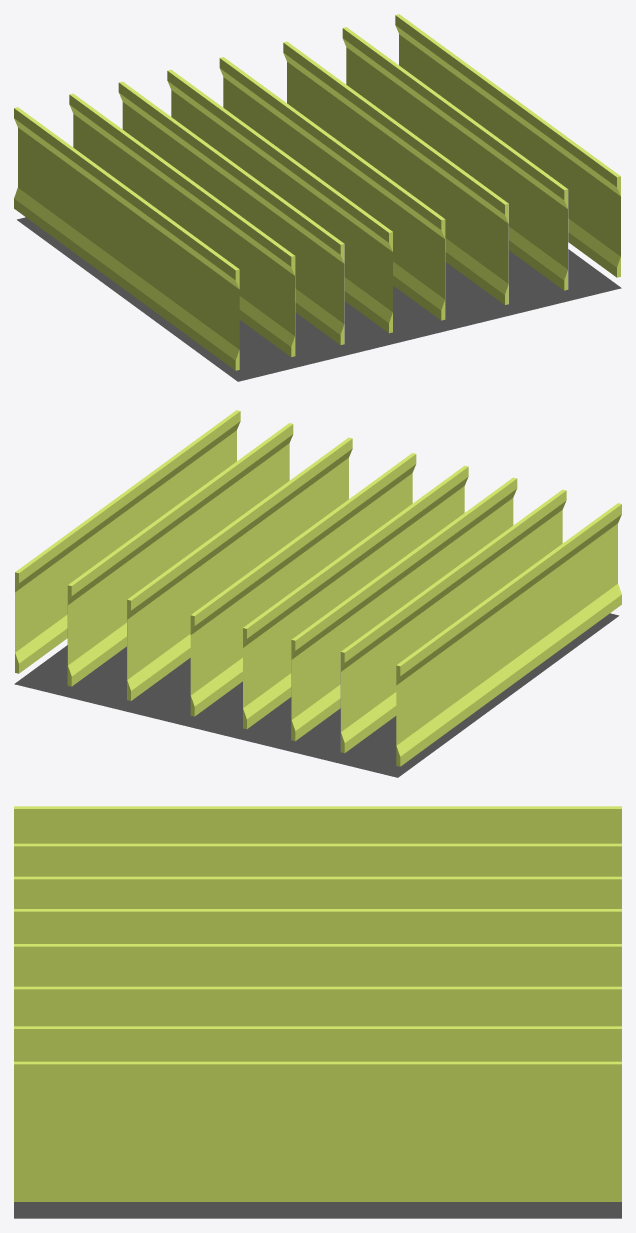
Rendered from Fall.dae.
3 renders of one model, top to bottom at view 1: azimuth 30°, elevation 25°; view 2: azimuth 150°, elevation 25°; view 3: azimuth 270°, elevation 25°, orthographic. The views are drawn at different scales.
Visible parts, largest first — view 1: node_3584d2a5_cb83_4061_92fe_2b8d226bf37d_mesh6, node_3584d2a5_cb83_4061_92fe_2b8d226bf37d_mesh7, node_3584d2a5_cb83_4061_92fe_2b8d226bf37d_mesh4, node_3584d2a5_cb83_4061_92fe_2b8d226bf37d_mesh5, node_3584d2a5_cb83_4061_92fe_2b8d226bf37d_mesh2, node_3584d2a5_cb83_4061_92fe_2b8d226bf37d_mesh3, node_3584d2a5_cb83_4061_92fe_2b8d226bf37d_mesh1, node_3584d2a5_cb83_4061_92fe_2b8d226bf37d_mesh8, node_3584d2a5_cb83_4061_92fe_2b8d226bf37d_mesh0; view 2: node_3584d2a5_cb83_4061_92fe_2b8d226bf37d_mesh6, node_3584d2a5_cb83_4061_92fe_2b8d226bf37d_mesh7, node_3584d2a5_cb83_4061_92fe_2b8d226bf37d_mesh4, node_3584d2a5_cb83_4061_92fe_2b8d226bf37d_mesh5, node_3584d2a5_cb83_4061_92fe_2b8d226bf37d_mesh2, node_3584d2a5_cb83_4061_92fe_2b8d226bf37d_mesh3, node_3584d2a5_cb83_4061_92fe_2b8d226bf37d_mesh1, node_3584d2a5_cb83_4061_92fe_2b8d226bf37d_mesh8, node_3584d2a5_cb83_4061_92fe_2b8d226bf37d_mesh0; view 3: node_3584d2a5_cb83_4061_92fe_2b8d226bf37d_mesh3, node_3584d2a5_cb83_4061_92fe_2b8d226bf37d_mesh1, node_3584d2a5_cb83_4061_92fe_2b8d226bf37d_mesh7, node_3584d2a5_cb83_4061_92fe_2b8d226bf37d_mesh6, node_3584d2a5_cb83_4061_92fe_2b8d226bf37d_mesh4, node_3584d2a5_cb83_4061_92fe_2b8d226bf37d_mesh0, node_3584d2a5_cb83_4061_92fe_2b8d226bf37d_mesh2, node_3584d2a5_cb83_4061_92fe_2b8d226bf37d_mesh8, node_3584d2a5_cb83_4061_92fe_2b8d226bf37d_mesh5.
Part boxes in pixels (<box>): node_3584d2a5_cb83_4061_92fe_2b8d226bf37d_mesh6: <box>14,107,239,370</box>; node_3584d2a5_cb83_4061_92fe_2b8d226bf37d_mesh7: <box>283,41,508,304</box>; node_3584d2a5_cb83_4061_92fe_2b8d226bf37d_mesh4: <box>342,27,568,290</box>; node_3584d2a5_cb83_4061_92fe_2b8d226bf37d_mesh5: <box>17,217,621,381</box>; node_3584d2a5_cb83_4061_92fe_2b8d226bf37d_mesh2: <box>69,93,295,357</box>; node_3584d2a5_cb83_4061_92fe_2b8d226bf37d_mesh3: <box>395,14,620,277</box>; node_3584d2a5_cb83_4061_92fe_2b8d226bf37d_mesh1: <box>219,57,445,320</box>; node_3584d2a5_cb83_4061_92fe_2b8d226bf37d_mesh8: <box>118,81,344,345</box>; node_3584d2a5_cb83_4061_92fe_2b8d226bf37d_mesh0: <box>167,69,392,333</box>; node_3584d2a5_cb83_4061_92fe_2b8d226bf37d_mesh6: <box>396,503,621,766</box>; node_3584d2a5_cb83_4061_92fe_2b8d226bf37d_mesh7: <box>127,437,352,700</box>; node_3584d2a5_cb83_4061_92fe_2b8d226bf37d_mesh4: <box>67,423,293,686</box>; node_3584d2a5_cb83_4061_92fe_2b8d226bf37d_mesh5: <box>14,613,618,777</box>; node_3584d2a5_cb83_4061_92fe_2b8d226bf37d_mesh2: <box>340,489,566,753</box>; node_3584d2a5_cb83_4061_92fe_2b8d226bf37d_mesh3: <box>15,410,240,673</box>; node_3584d2a5_cb83_4061_92fe_2b8d226bf37d_mesh1: <box>190,453,416,716</box>; node_3584d2a5_cb83_4061_92fe_2b8d226bf37d_mesh8: <box>291,477,517,741</box>; node_3584d2a5_cb83_4061_92fe_2b8d226bf37d_mesh0: <box>243,465,468,729</box>; node_3584d2a5_cb83_4061_92fe_2b8d226bf37d_mesh3: <box>14,1061,621,1201</box>; node_3584d2a5_cb83_4061_92fe_2b8d226bf37d_mesh1: <box>14,944,621,986</box>; node_3584d2a5_cb83_4061_92fe_2b8d226bf37d_mesh7: <box>14,986,621,1026</box>; node_3584d2a5_cb83_4061_92fe_2b8d226bf37d_mesh6: <box>14,806,621,843</box>; node_3584d2a5_cb83_4061_92fe_2b8d226bf37d_mesh4: <box>14,1026,621,1061</box>; node_3584d2a5_cb83_4061_92fe_2b8d226bf37d_mesh0: <box>14,909,621,943</box>; node_3584d2a5_cb83_4061_92fe_2b8d226bf37d_mesh2: <box>14,843,621,876</box>; node_3584d2a5_cb83_4061_92fe_2b8d226bf37d_mesh8: <box>14,876,621,908</box>; node_3584d2a5_cb83_4061_92fe_2b8d226bf37d_mesh5: <box>14,1202,621,1218</box>.
Size of the model in its own units: 5030 by 1395 by 5000.
